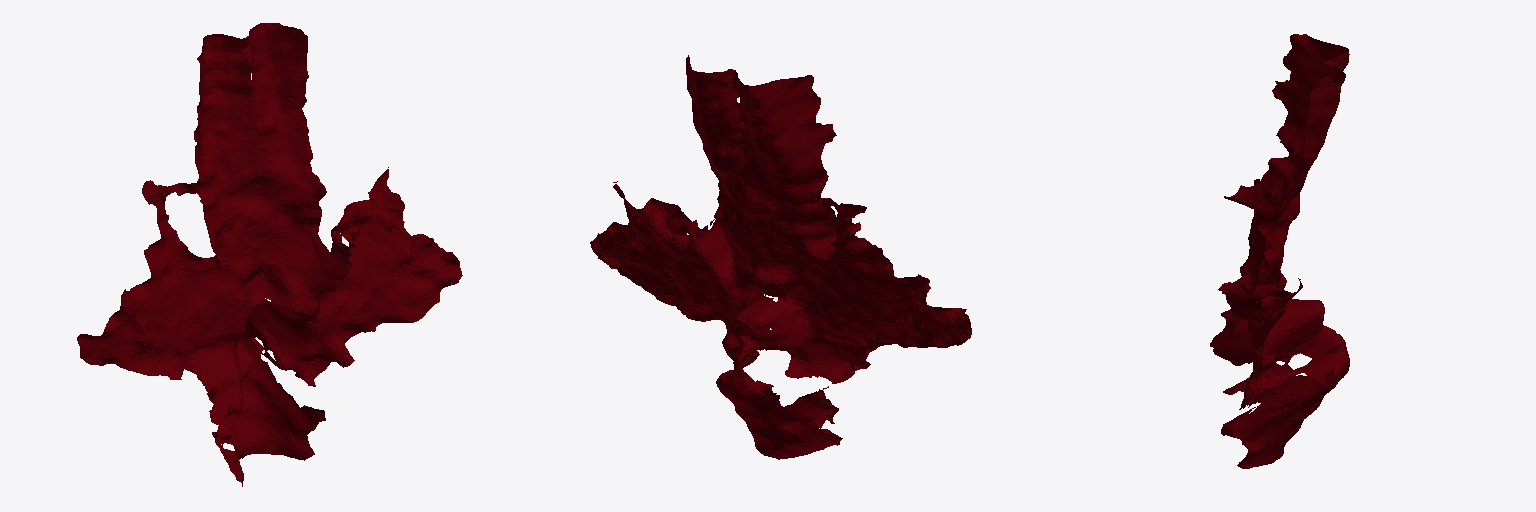
Rendered from dragon_3d_mesh.obj.
The picture shows the model from 3 angles: view 1: azimuth 30°, elevation 25°; view 2: azimuth 150°, elevation 25°; view 3: azimuth 270°, elevation 25°; orthographic projection.
Parts seen in each view (by area): view 1: objMesh; view 2: objMesh; view 3: objMesh.
Part boxes in pixels (x1,y1,x2,y2): objMesh: (77, 23, 462, 486); objMesh: (590, 55, 971, 459); objMesh: (1210, 34, 1349, 468).
Bounding box in the file's own units: 0.0391 × 0.0393 × 0.0124.